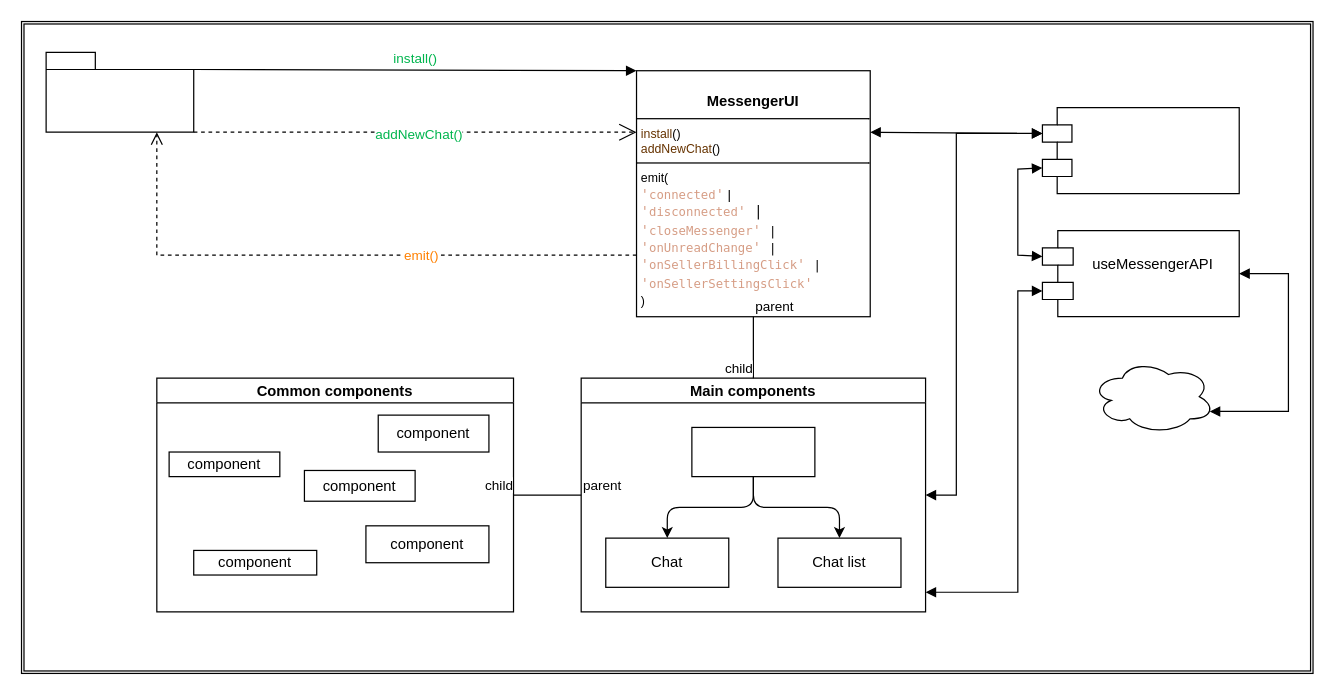
Some shapes in this 1335 by 695 pixel diagram are drawn without their labels. Here are the shapes that lost their labels. From the top down, the centre of each, then its label:
At (x=119, y=91): "External app".
At (x=1140, y=150): "useMessenger".
At (x=1152, y=396): "API".
At (x=753, y=451): "Main layout".
